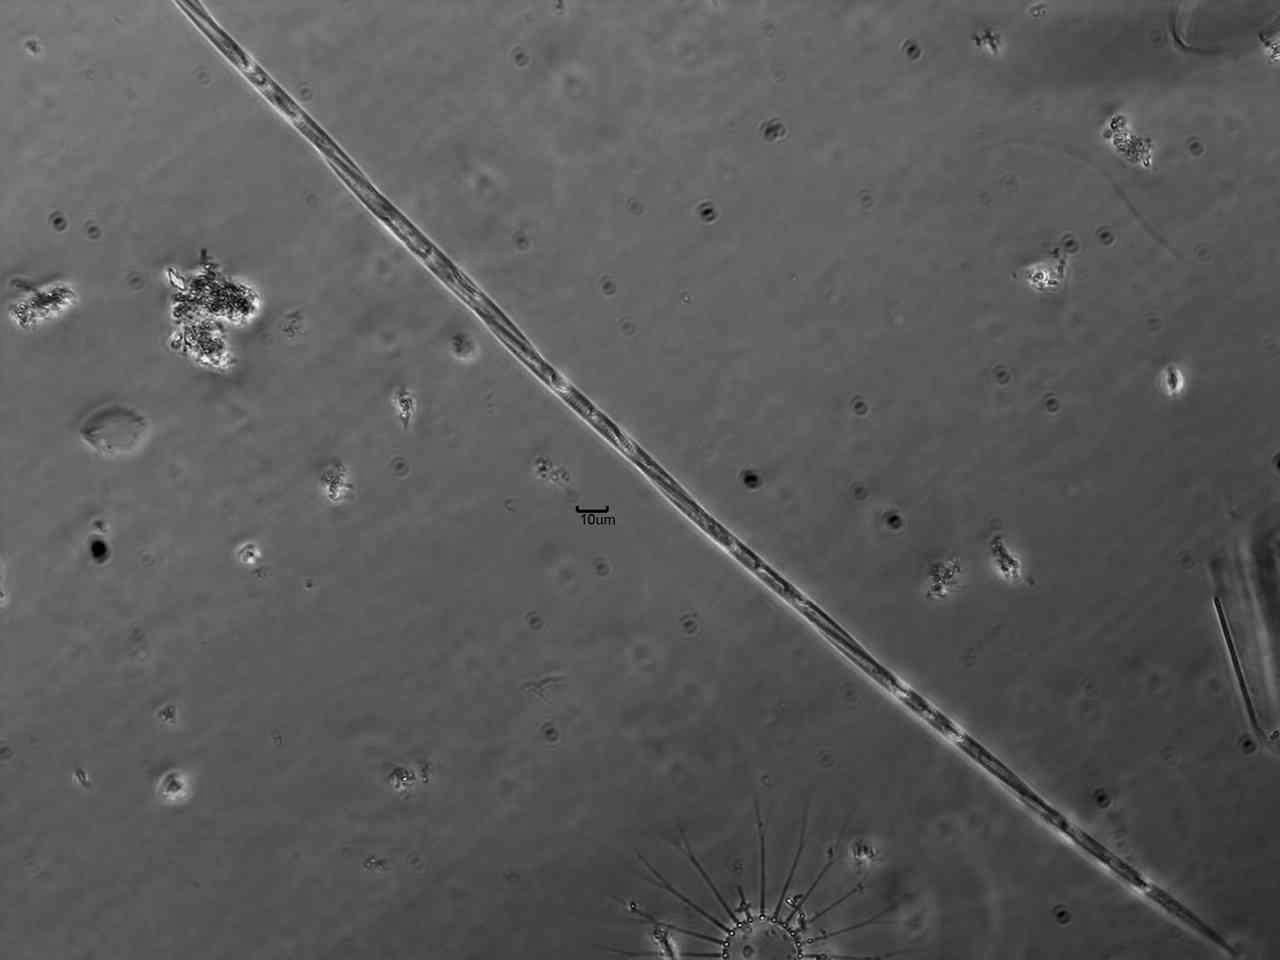pseudo_nitzschia: (174, 0, 1242, 959)
